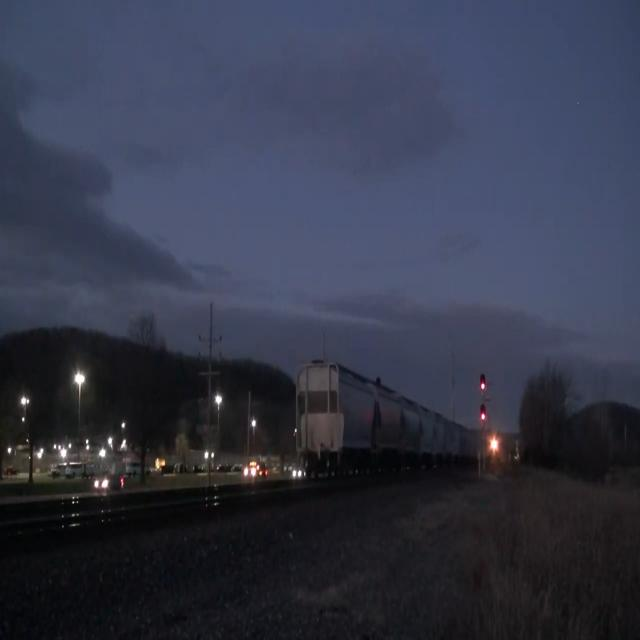hopper: (294, 346, 379, 482)
